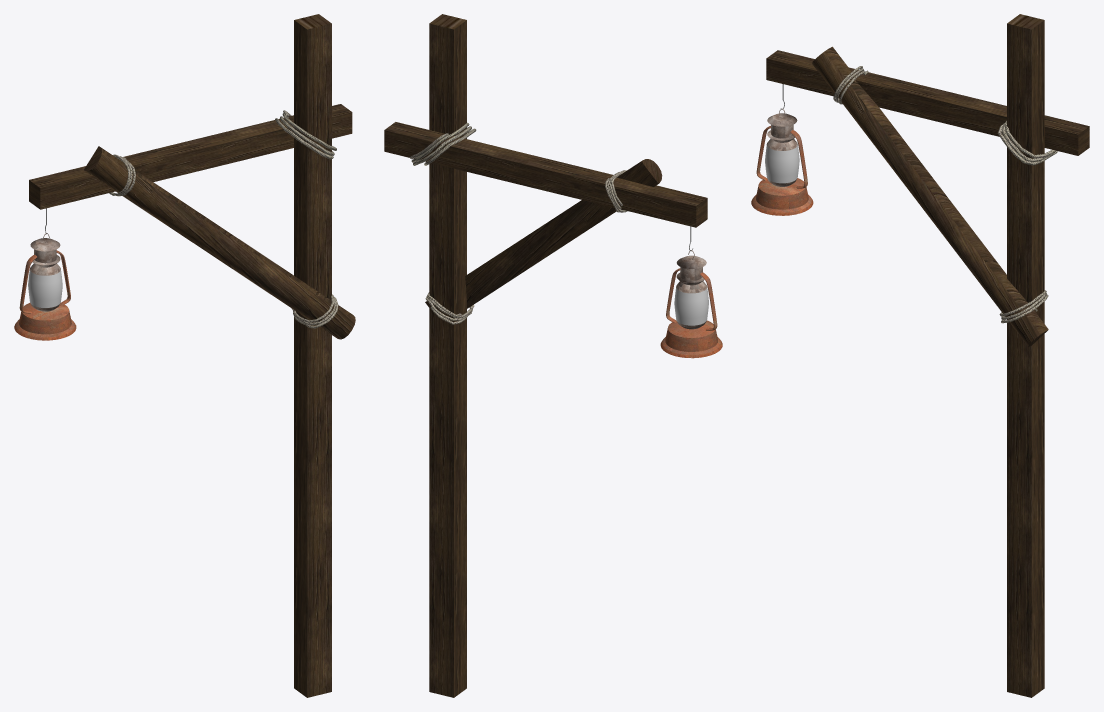
Rendered from PostewithLampiao.fbx.
The picture shows the model from 3 angles, left to right: view 1: azimuth 30°, elevation 25°; view 2: azimuth 150°, elevation 25°; view 3: azimuth 330°, elevation 25°; orthographic projection.
Visible parts, largest first — view 1: Poste, Cylinder.007, Cordas, Cylinder.009, Cylinder.011; view 2: Poste, Cylinder.007, Cordas, Cylinder.009, Cylinder.011; view 3: Poste, Cylinder.007, Cordas, Cylinder.009, Cylinder.011.
Boxes of the visible parts, x1,y1,x2,y2 form: Poste: [29, 14, 355, 697]; Cylinder.007: [14, 250, 76, 340]; Cordas: [109, 110, 338, 328]; Cylinder.009: [28, 269, 62, 307]; Cylinder.011: [30, 233, 60, 311]; Poste: [384, 14, 707, 697]; Cylinder.007: [660, 268, 722, 358]; Cordas: [410, 122, 627, 324]; Cylinder.009: [674, 287, 708, 325]; Cylinder.011: [676, 250, 707, 329]; Poste: [766, 14, 1089, 697]; Cylinder.007: [751, 126, 813, 215]; Cordas: [833, 66, 1057, 323]; Cylinder.009: [765, 144, 799, 183]; Cylinder.011: [766, 108, 797, 186].
Bounding box in the file's own units: 129 × 251 × 29.79.
